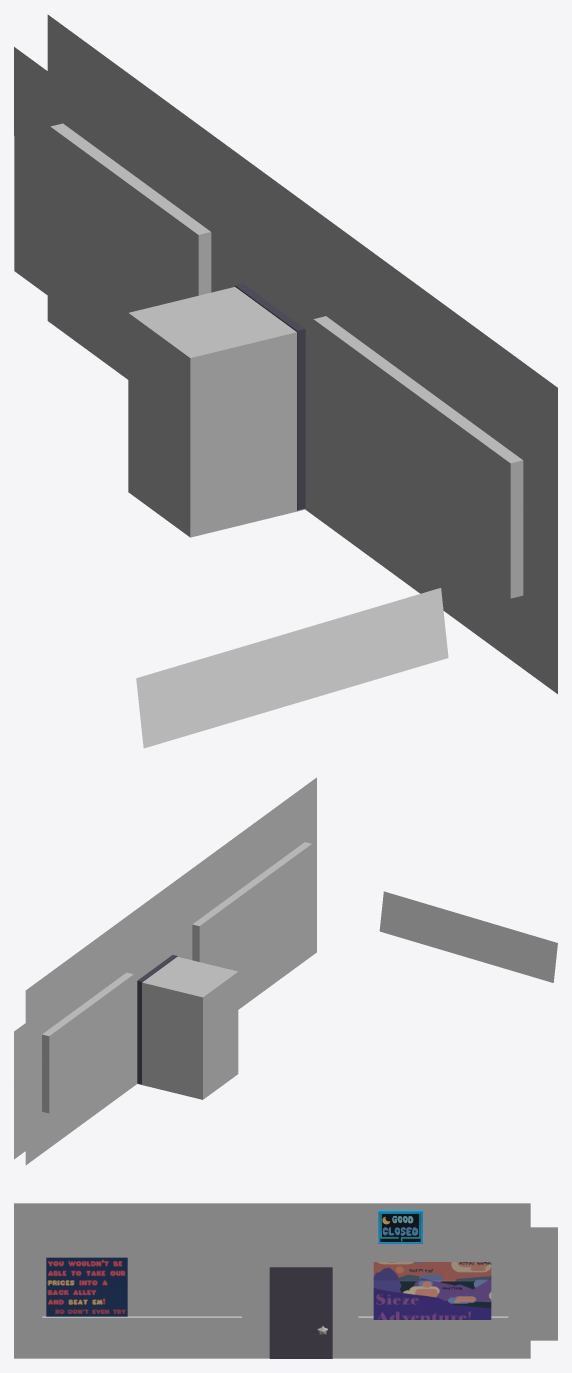
Rendered from DBLiveTrashierBigGigFacade.fbx.
3 renders of one model, top to bottom at view 1: azimuth 30°, elevation 25°; view 2: azimuth 150°, elevation 25°; view 3: azimuth 270°, elevation 25°, orthographic. The views are drawn at different scales.
Visible parts, largest first — view 1: ApartmintWall, ApartMint.005, Graffiti.007, BoringDoors.004; view 2: ApartmintWall, ApartMint.005, Graffiti.007, BoringDoors.004; view 3: ApartmintWall, ApartMint.005, Poster.029, BoringDoors.004, Poster.061, ClosedSign.001.
Part boxes in pixels (box(x1,y1,x2,y2)): ApartmintWall: box(47, 14, 557, 693); ApartMint.005: box(14, 47, 532, 649); Graffiti.007: box(136, 588, 448, 748); BoringDoors.004: box(235, 283, 305, 510); ApartmintWall: box(25, 777, 316, 1165); ApartMint.005: box(14, 815, 309, 1159); Graffiti.007: box(379, 891, 557, 982); BoringDoors.004: box(137, 955, 177, 1084); ApartmintWall: box(14, 1203, 530, 1358); ApartMint.005: box(42, 1227, 557, 1340); Poster.029: box(373, 1262, 491, 1319); BoringDoors.004: box(269, 1267, 332, 1358); Poster.061: box(46, 1257, 127, 1316); ClosedSign.001: box(378, 1210, 422, 1243).
Bounding box in the file's own units: 877 × 589 × 1871.
